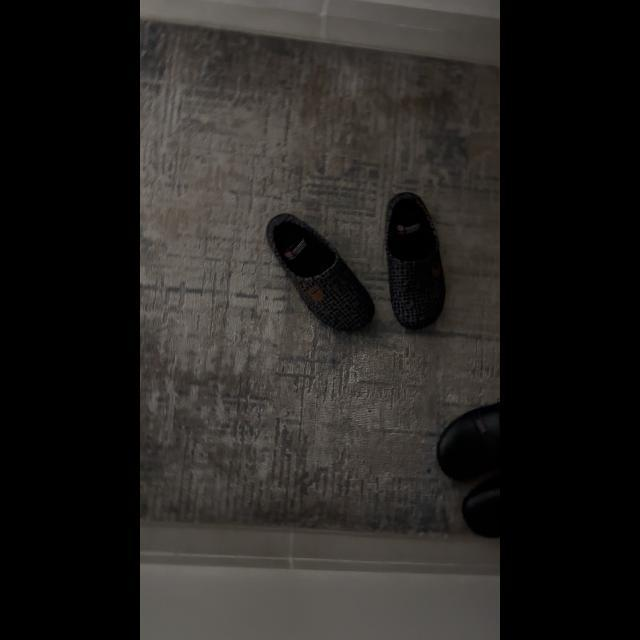slipper: (264, 206, 382, 336), (379, 186, 459, 336)
